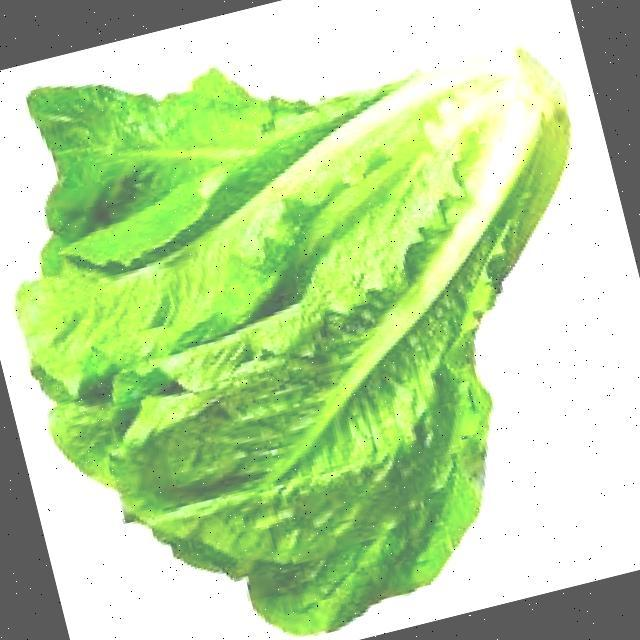healthy: (50, 40, 547, 561)
